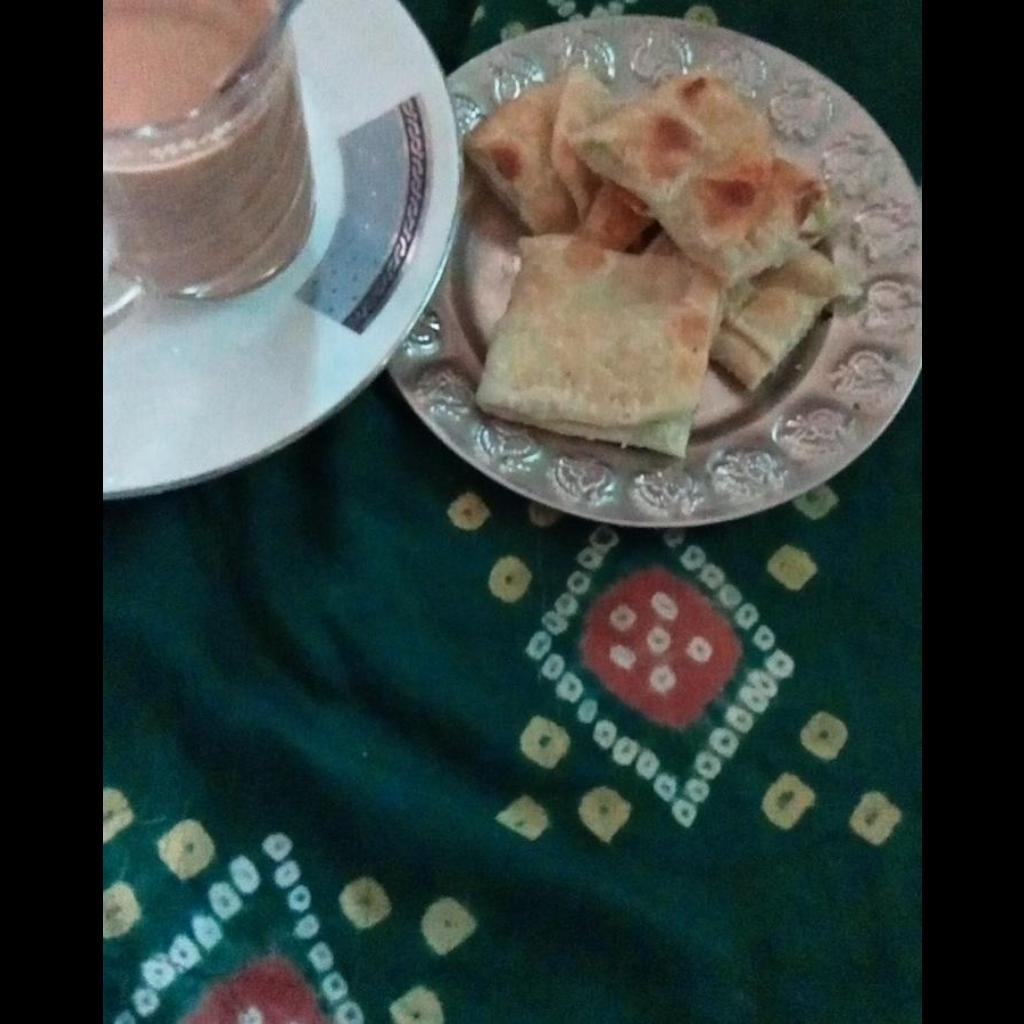cha: (102, 0, 274, 129)
ruti: (461, 57, 856, 457)
